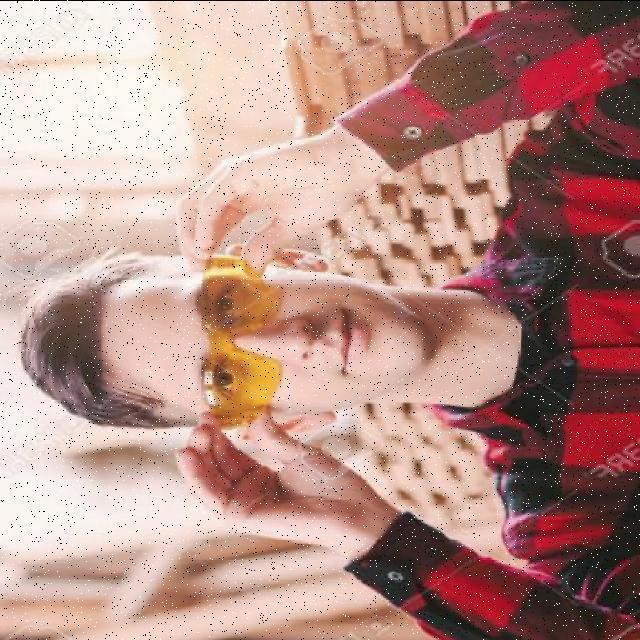Goggles: (185, 245, 297, 443)
